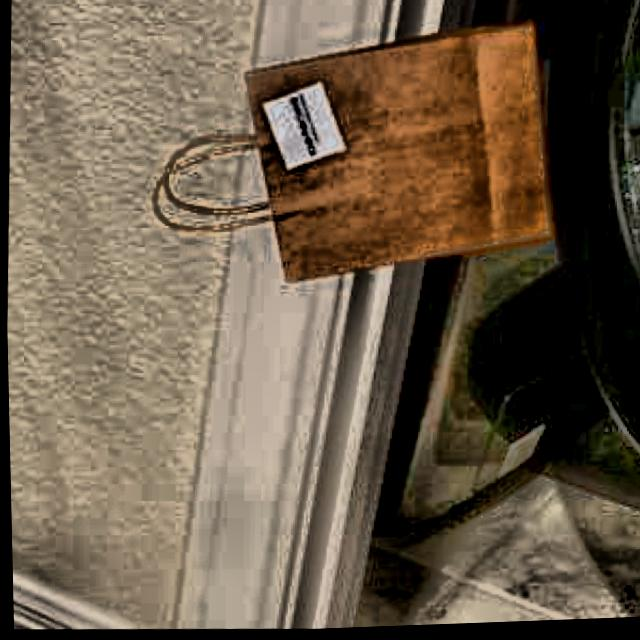Paper-bag: (124, 8, 580, 299)
